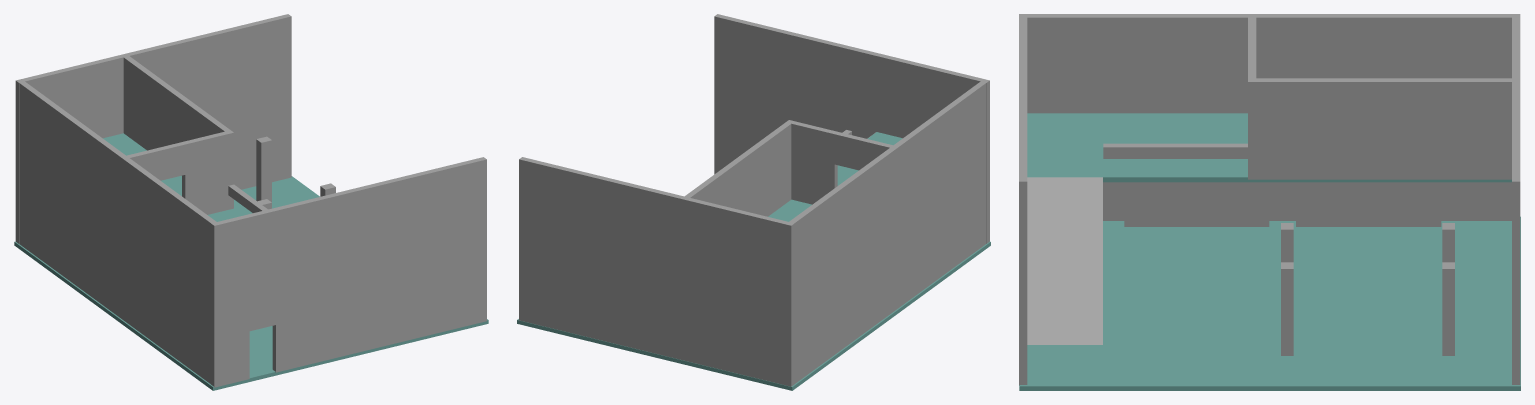
The model's file is garage.fbx.
3 renders of one model, left to right at view 1: azimuth 30°, elevation 25°; view 2: azimuth 150°, elevation 25°; view 3: azimuth 270°, elevation 25°, orthographic. The views are drawn at different scales.
Parts seen in each view (by area): view 1: pCube125; view 2: pCube125; view 3: pCube125.
Boxes of the visible parts, x1,y1,x2,y2 form: pCube125: [14, 14, 488, 390]; pCube125: [517, 14, 990, 390]; pCube125: [1019, 14, 1520, 390].
Size of the model in its own units: 49.95 by 28.57 by 62.44.
